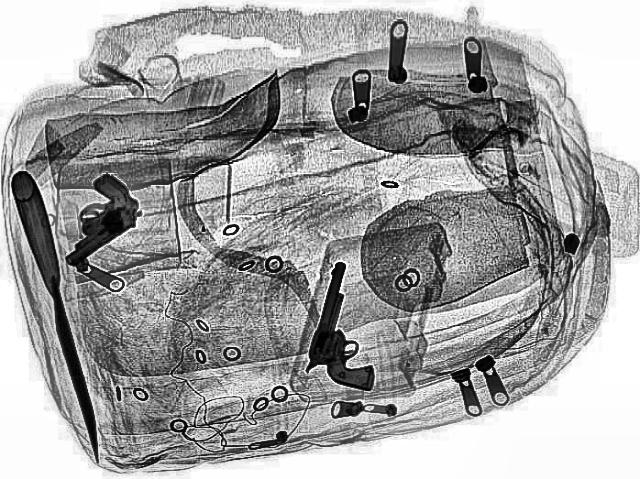Gun: (294, 258, 410, 392), (20, 171, 160, 269)
Knife: (4, 168, 120, 463)
